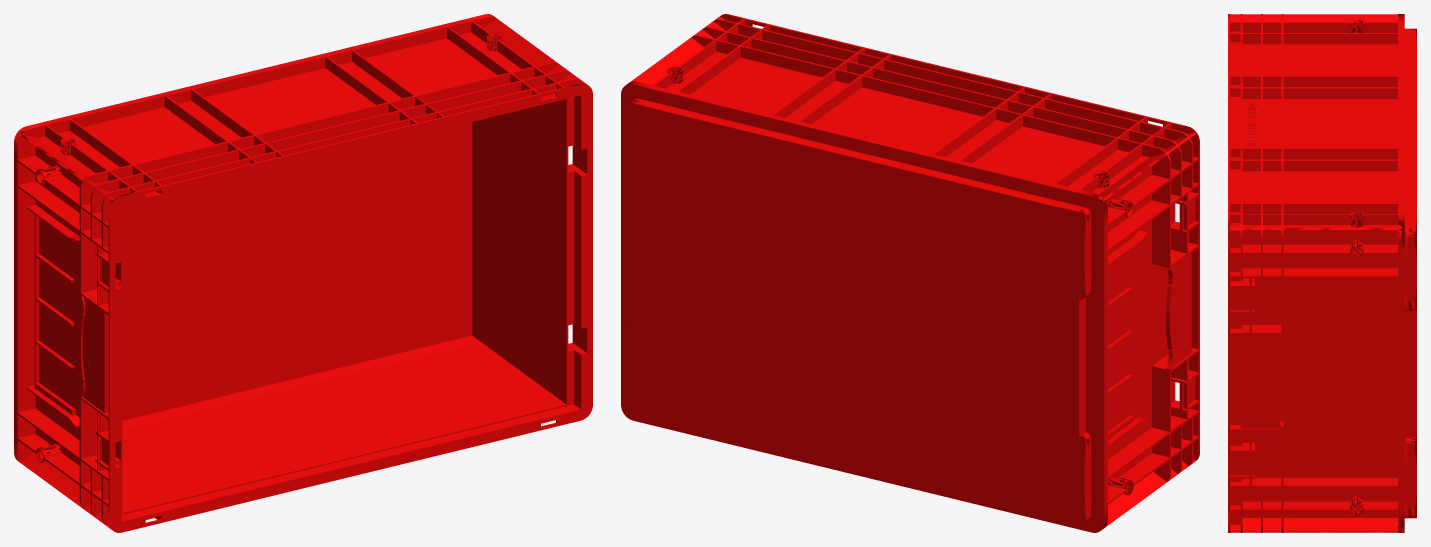
File: klt_box_middle.obj
3 views of the same model, side by side, from view 1: azimuth 30°, elevation 25°; view 2: azimuth 150°, elevation 25°; view 3: azimuth 270°, elevation 25° (orthographic). The views are drawn at different scales.
Parts seen in each view (by area): view 1: klt_box_middle; view 2: klt_box_middle; view 3: klt_box_middle.
Part boxes in pixels (<box>): klt_box_middle: <box>14,14,592,532</box>; klt_box_middle: <box>621,14,1199,532</box>; klt_box_middle: <box>1228,14,1416,532</box>.
Bounding box in the file's own units: 0.594 × 0.395 × 0.218.
